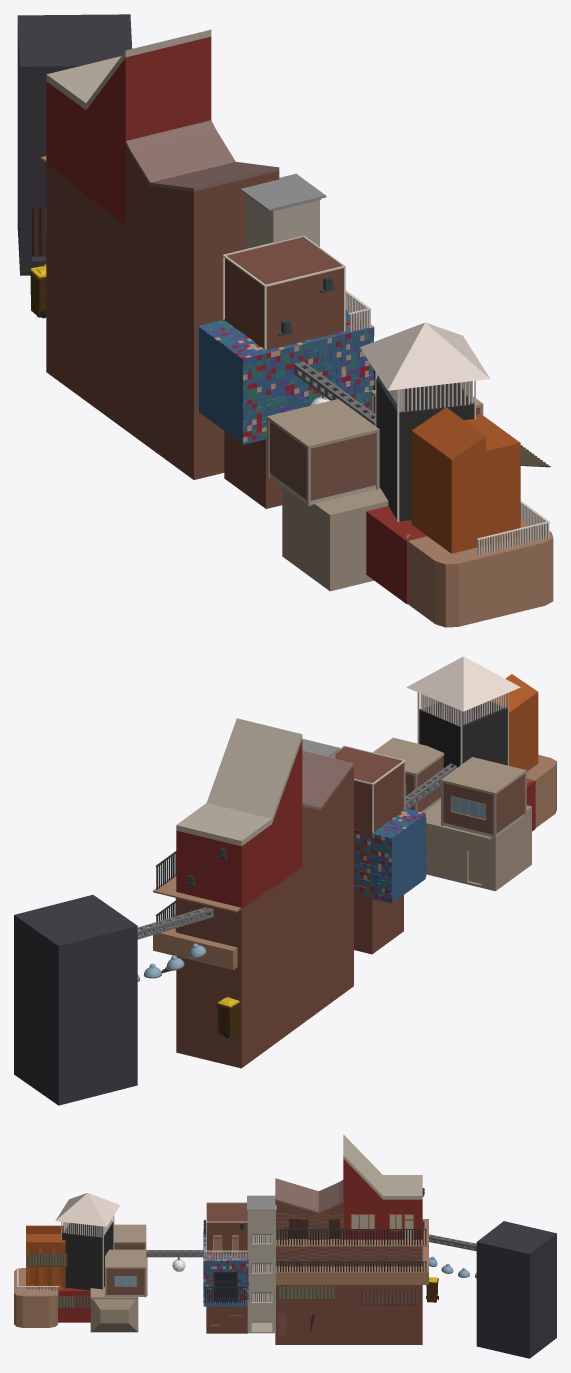
Rendered from GebouwenGrootHolzmarkt.fbx.
The picture shows the model from 3 angles, top to bottom: view 1: azimuth 30°, elevation 25°; view 2: azimuth 150°, elevation 25°; view 3: azimuth 270°, elevation 25°; orthographic projection. The views are drawn at different scales.
Parts seen in each view (by area): view 1: Cube.007; view 2: Cube.007; view 3: Cube.007.
Part boxes in pixels (x1,y1,x2,y2): Cube.007: (17,14,553,627); Cube.007: (14,656,556,1105); Cube.007: (14,1134,556,1358).
Size of the model in its own units: 1406 by 2066 by 5353.
